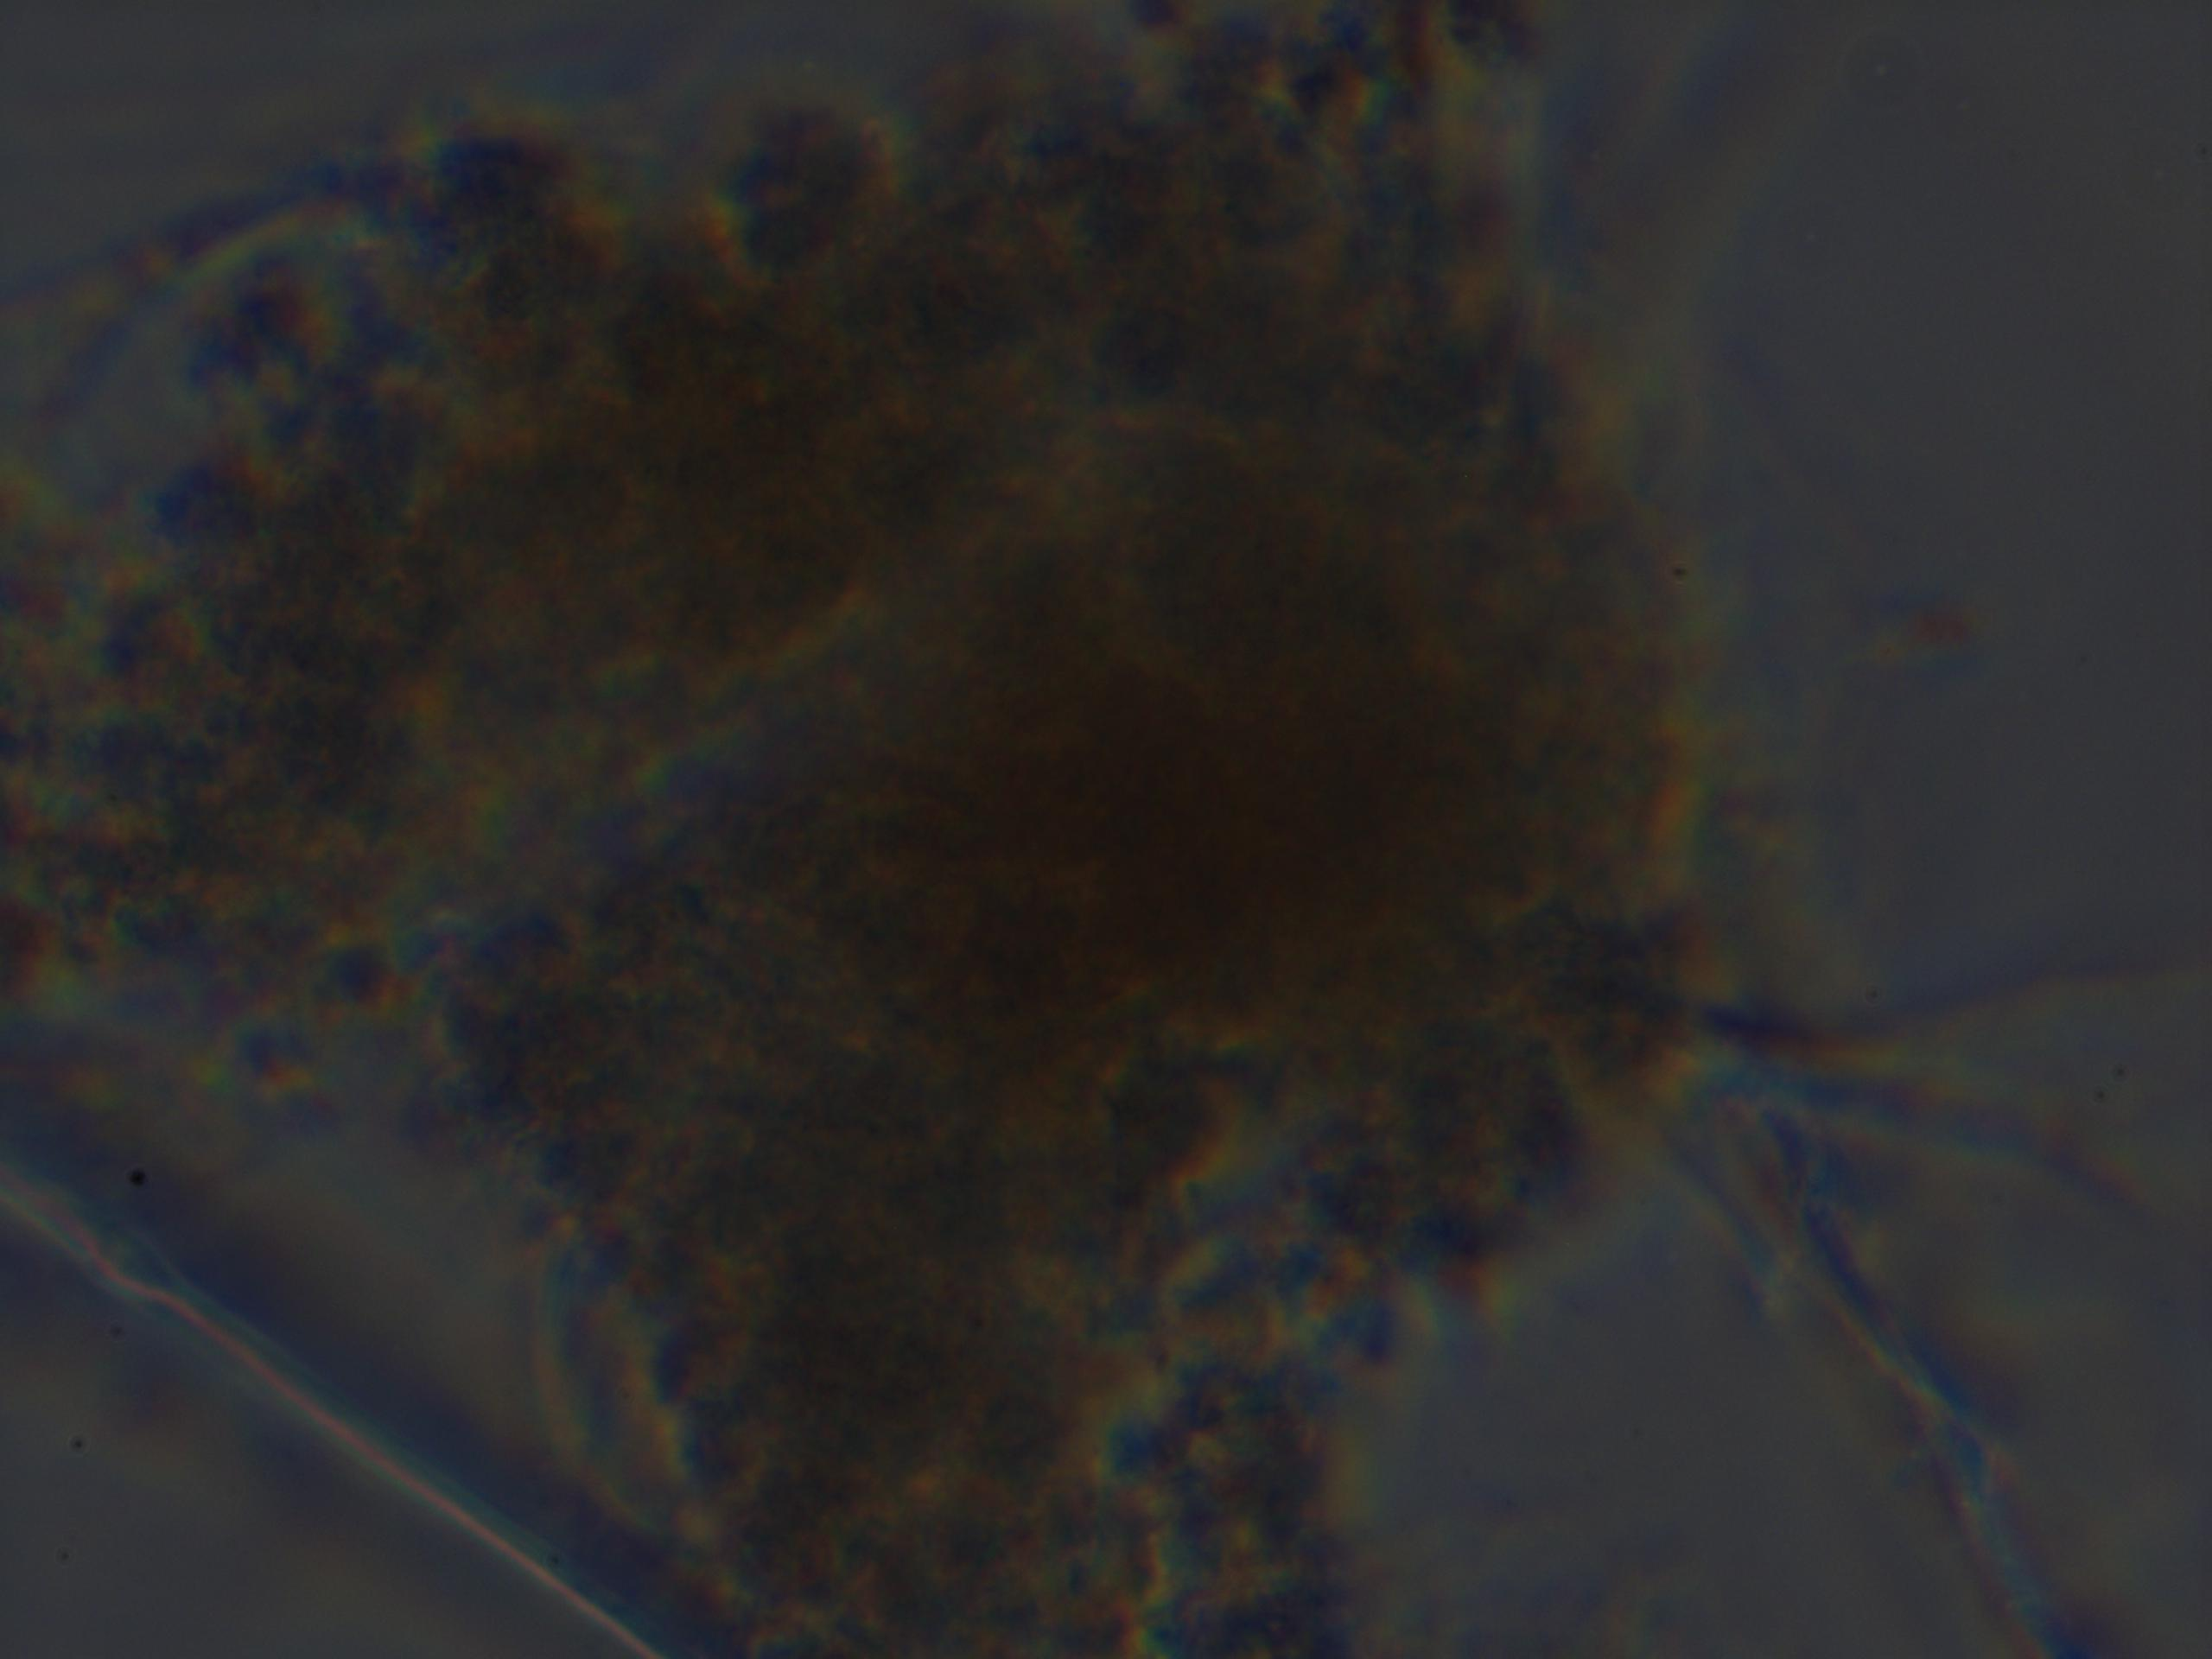filament: (1698, 943, 2209, 1659), (0, 1159, 690, 1659)
